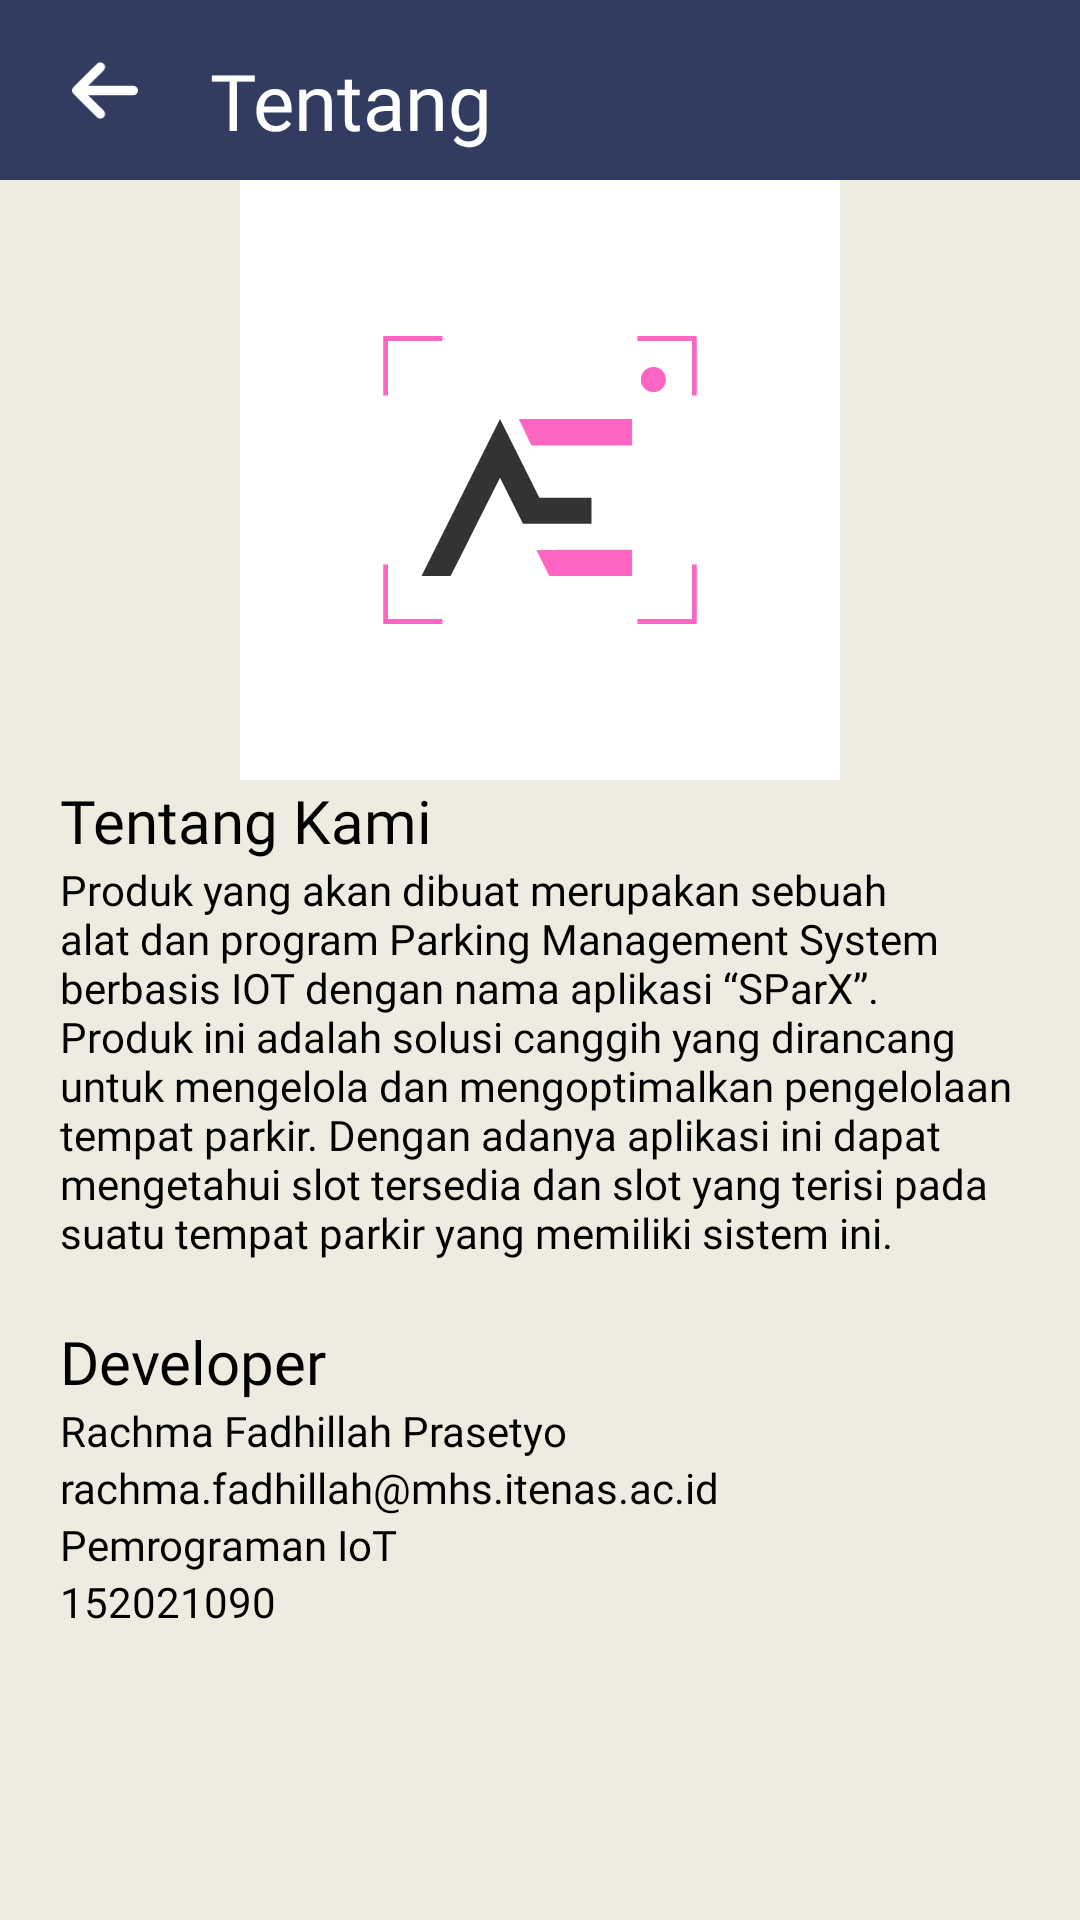

Locate icon controls on the screen. Image size 1080×1920, boxes as BBox(x1, y1, x2, y2).
arrow left: BBox(72, 62, 138, 119)
